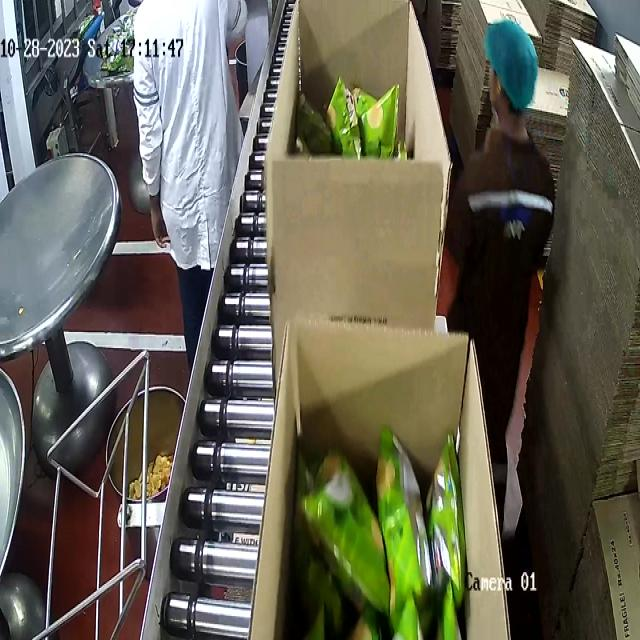YOGURT_HERB: (290, 425, 474, 640), (295, 74, 410, 158)
